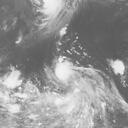cyclone: (51, 56, 92, 105)
